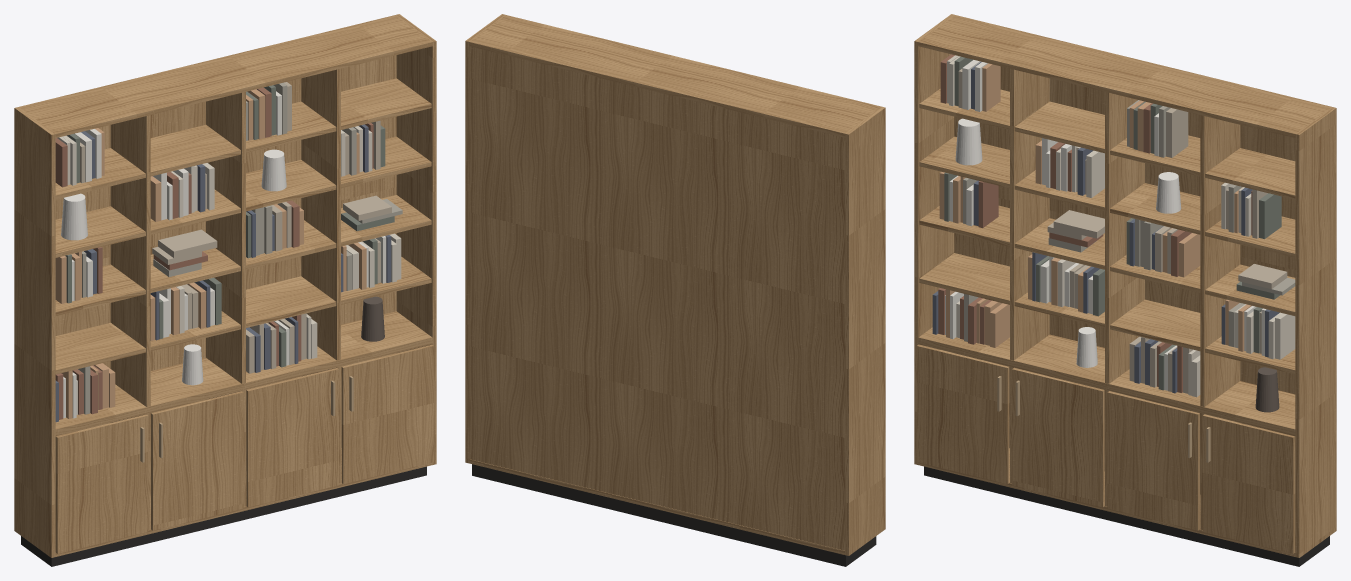
Rendered from libreria-240x260.glb.
3 views of the same model, side by side, from view 1: azimuth 30°, elevation 25°; view 2: azimuth 150°, elevation 25°; view 3: azimuth 330°, elevation 25° (orthographic).
Parts seen in each view (by area): view 1: finitura, schienale, libro0, libro6, libro3, libro2, libro4, zoccolo, libro5, libro7, libro1, ceramica (+2 smaller); view 2: schienale, finitura, zoccolo; view 3: finitura, schienale, libro6, libro0, libro2, libro3, libro4, libro1, zoccolo, libro5, libro7, ceramica (+2 smaller).
Part boxes in pixels (box(x1,y1,x2,y2)): finitura: box(14, 14, 436, 557); schienale: box(55, 55, 396, 494); libro0: box(80, 82, 391, 373); libro6: box(55, 89, 366, 418); libro3: box(55, 87, 373, 419); libro2: box(57, 126, 401, 414); libro4: box(63, 91, 386, 418); zoccolo: box(21, 466, 426, 566); libro5: box(55, 124, 391, 422); libro7: box(78, 82, 402, 414); libro1: box(65, 85, 394, 367); ceramica: box(61, 149, 286, 385); schienale: box(469, 46, 844, 550); finitura: box(465, 14, 885, 555); zoccolo: box(472, 464, 876, 566); finitura: box(914, 14, 1336, 557); schienale: box(954, 66, 1295, 494); libro6: box(939, 63, 1251, 351); libro0: box(958, 69, 1287, 393); libro2: box(947, 55, 1295, 397); libro3: box(938, 54, 1252, 392); libro4: box(945, 60, 1266, 390); libro1: box(944, 56, 1281, 390); zoccolo: box(924, 466, 1329, 566); libro5: box(932, 61, 1279, 393); libro7: box(963, 100, 1295, 346); ceramica: box(955, 118, 1181, 367).
Size of the model in its own units: 2.4 by 2.6 by 0.445.
Materials: 15 (2 with a texture image).
